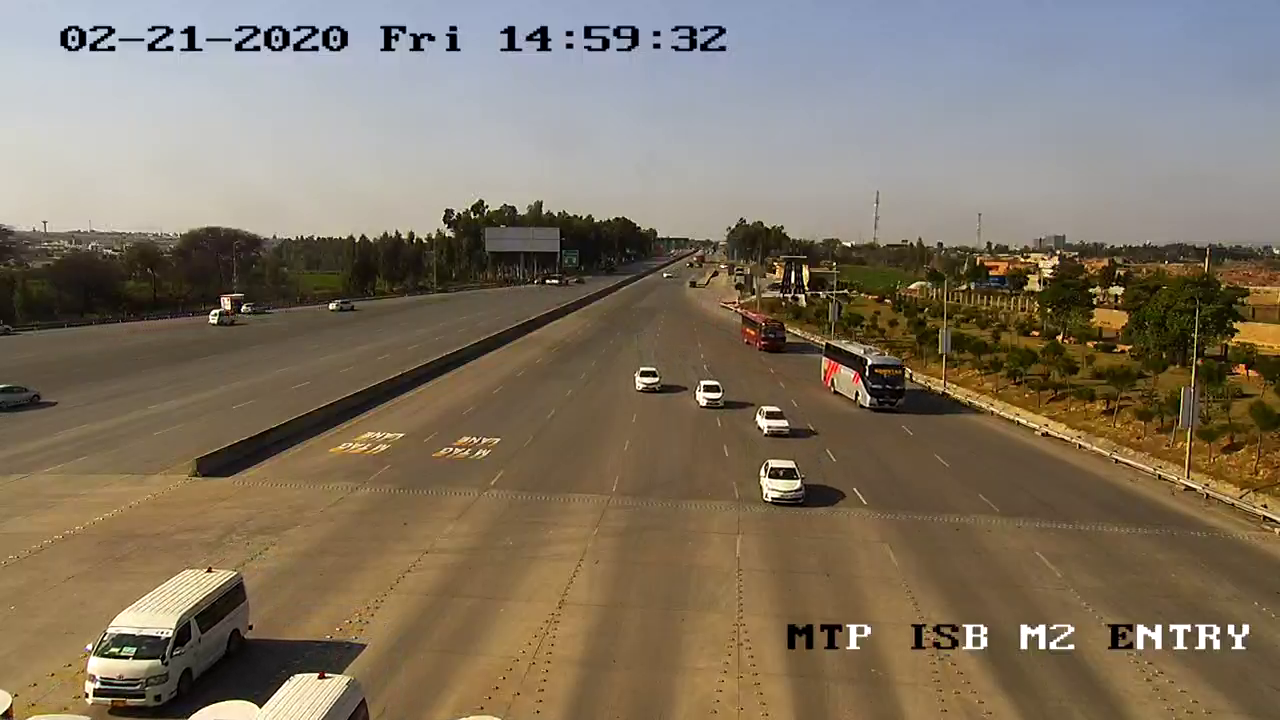f1: (754, 444, 811, 520), (619, 360, 672, 403), (752, 396, 795, 436), (688, 377, 730, 416)
f3: (75, 557, 265, 715)
f4: (814, 326, 920, 421), (729, 306, 800, 361)
